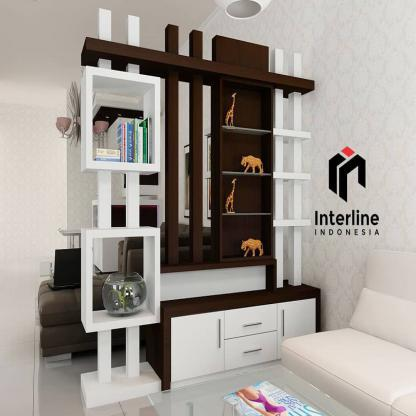buku: (120, 119, 155, 163)
sova: (285, 251, 416, 416)
